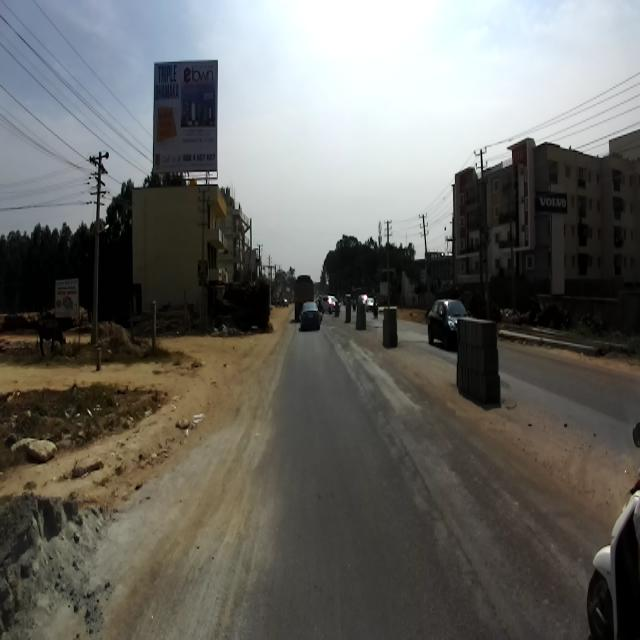barrier ahead at: (446, 306, 499, 418), (376, 303, 401, 352)
car ahead at: (298, 299, 320, 335)
electric pole ahead at: (82, 141, 116, 378)
